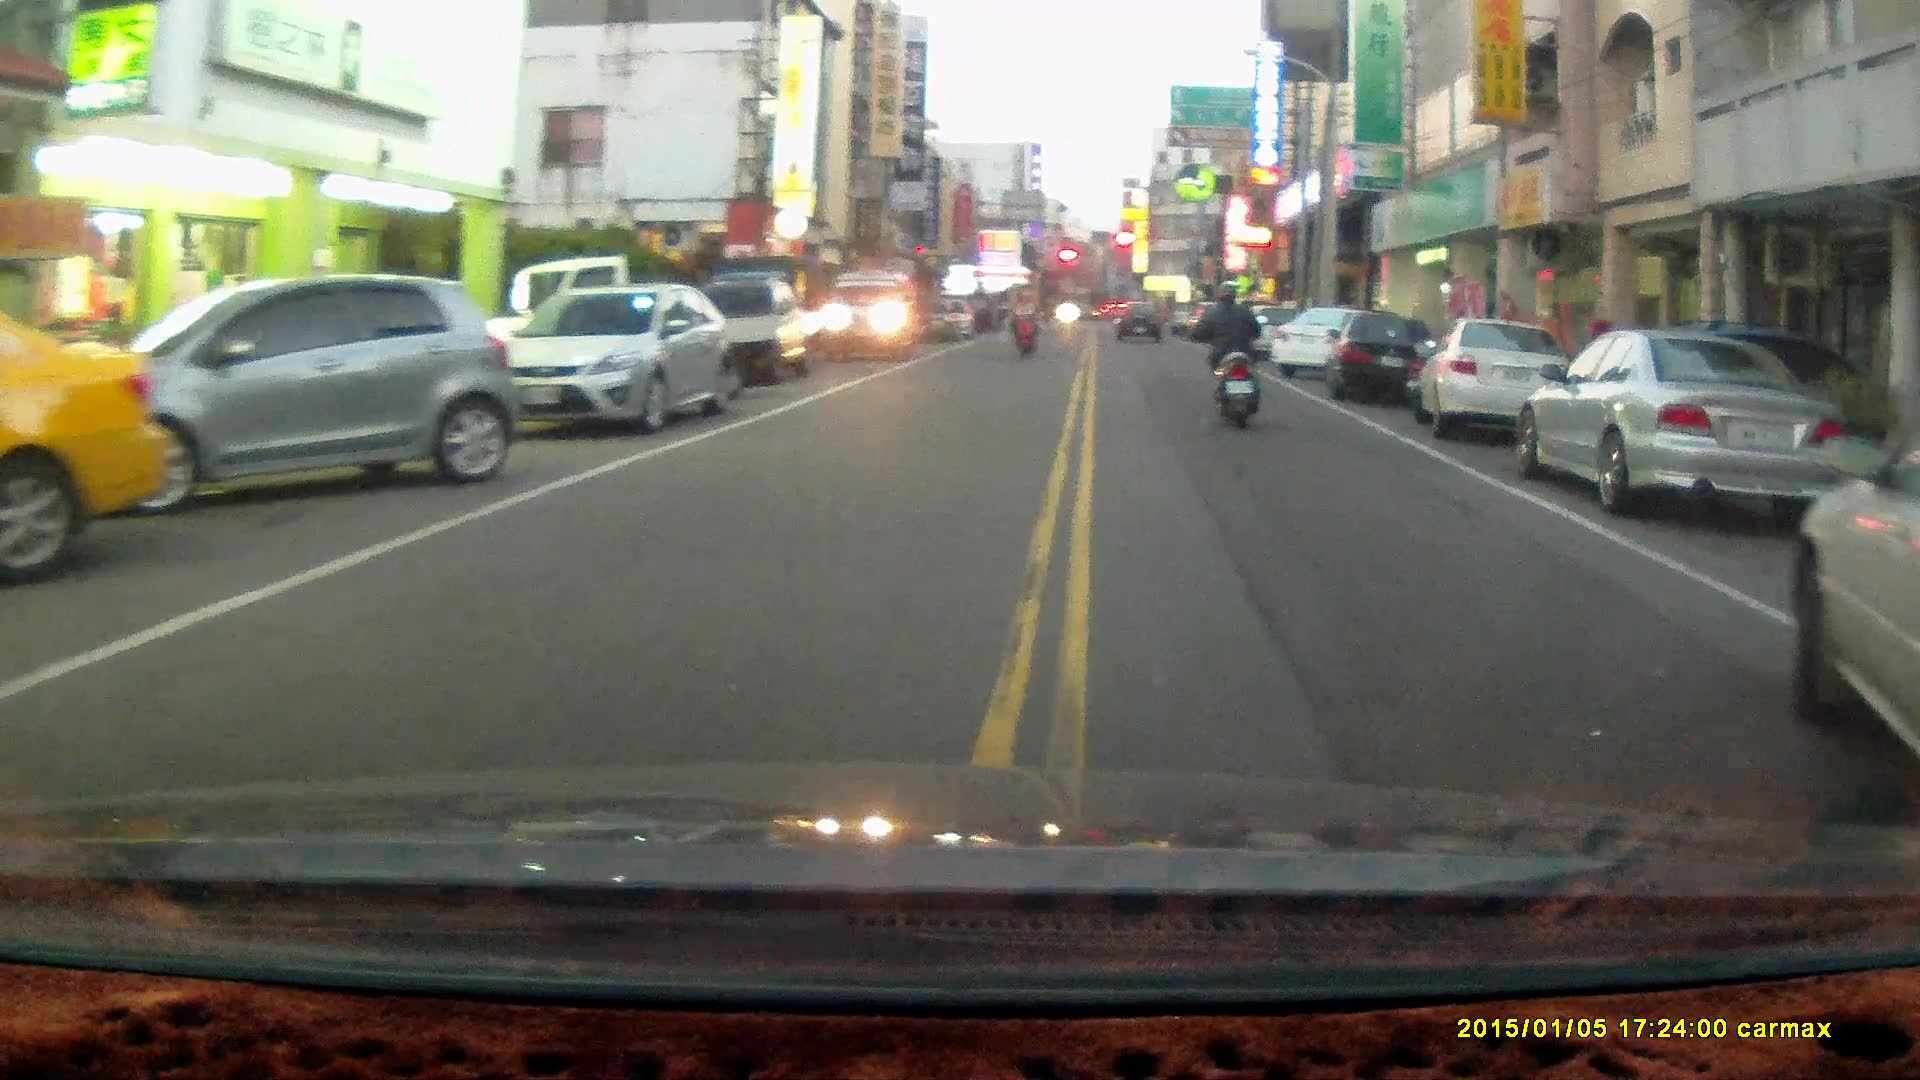rider: (1191, 282, 1264, 431), (1006, 285, 1036, 361)
vehicle: (78, 275, 511, 516), (1515, 324, 1848, 522), (1789, 406, 1919, 821), (1, 292, 168, 591), (498, 282, 743, 439), (1415, 318, 1567, 439), (684, 273, 829, 387), (821, 268, 919, 363)
